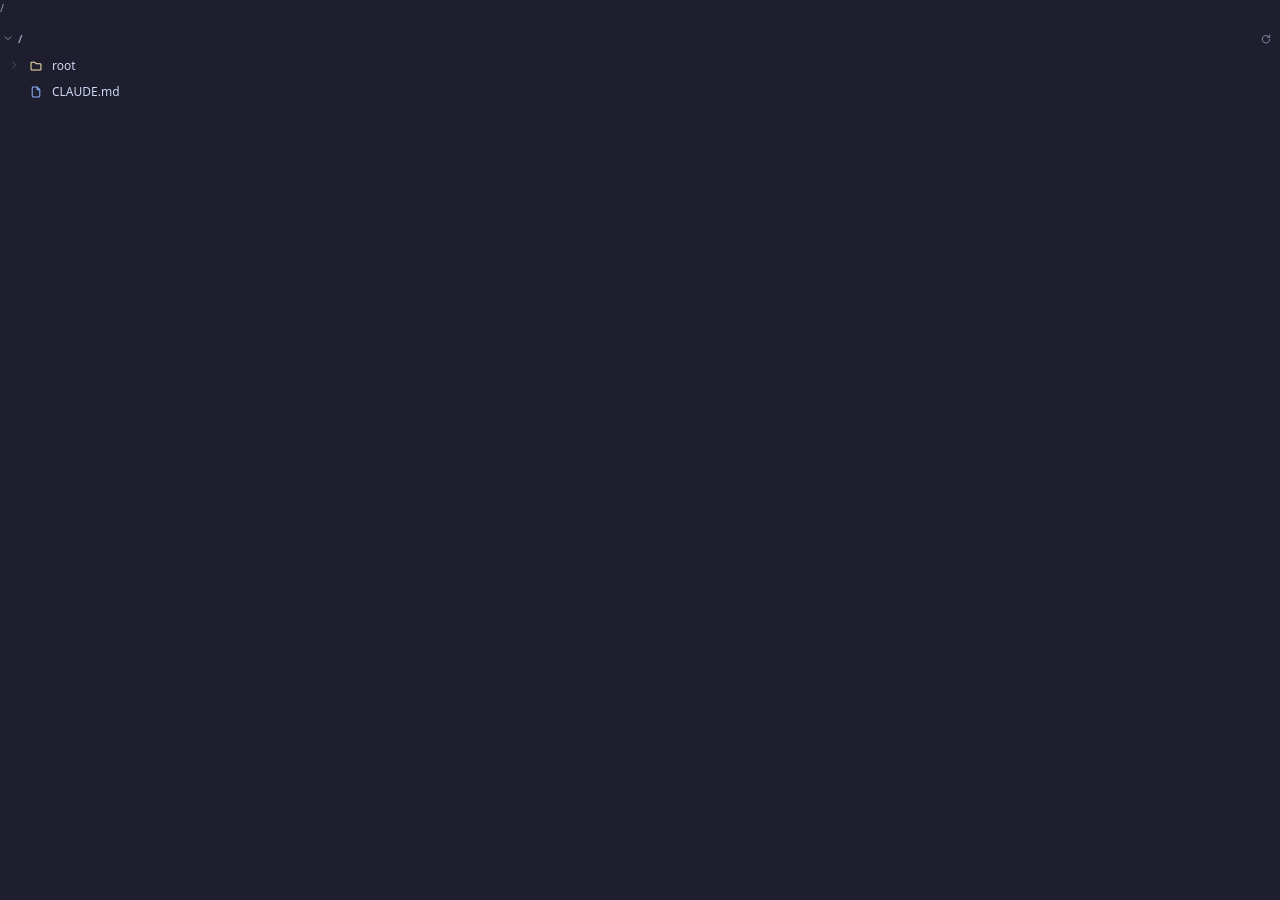
Test: FileTree › reports a failed sub-directory in place, leaving the rest of the tree
Click the button with test id "ft-row-/root": click(14, 65) [0,53,1279,79]
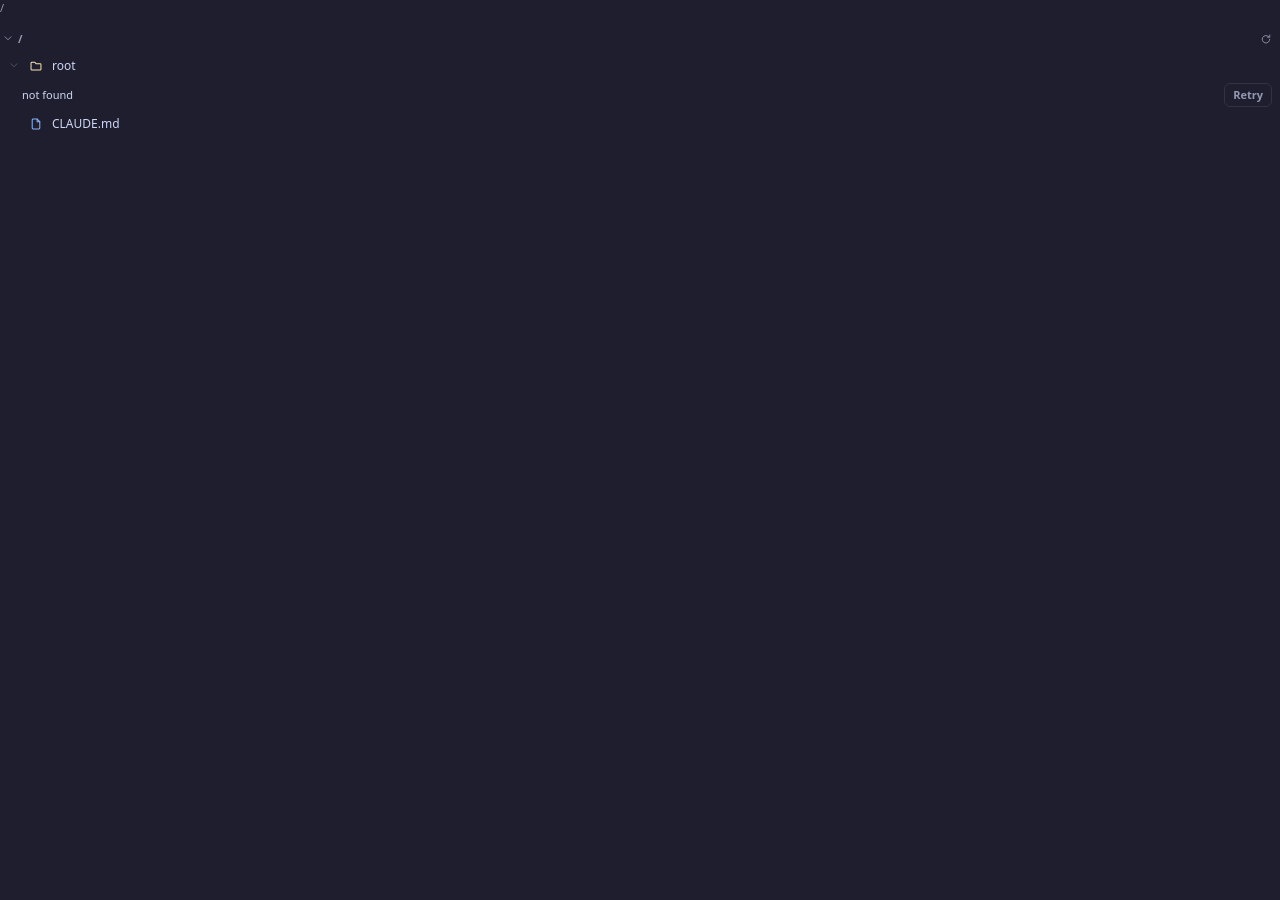
Expected: the button with test id "ft-row-/CLAUDE.md" is shown, [0,111,1279,137]
Result: the element with test id "ft-error-/root" shows "not found" at [22,87,73,102]
